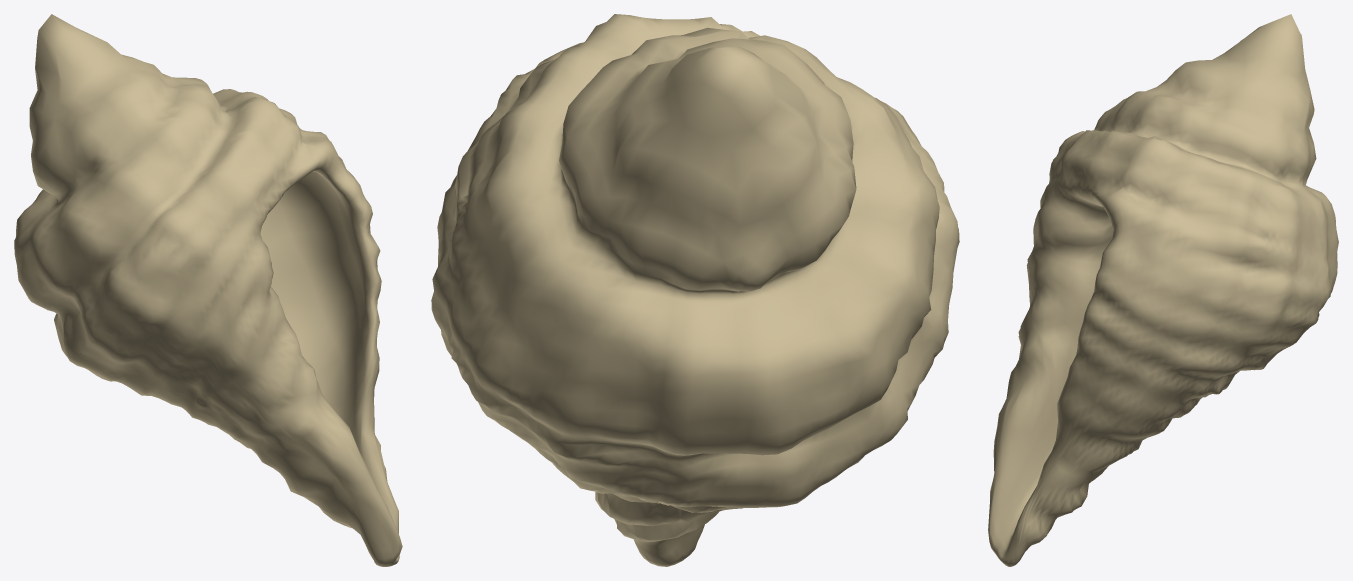
File: shell.glb
3 renders of one model, left to right at view 1: azimuth 30°, elevation 25°; view 2: azimuth 150°, elevation 25°; view 3: azimuth 270°, elevation 25°, orthographic. The views are drawn at different scales.
Parts seen in each view (by area): view 1: ShellLP; view 2: ShellLP; view 3: ShellLP.
Boxes of the visible parts, bbox=[...] form: ShellLP: bbox=[14, 14, 402, 566]; ShellLP: bbox=[431, 14, 959, 566]; ShellLP: bbox=[988, 14, 1338, 566].
Size of the model in its own units: 236 by 359 by 246.
